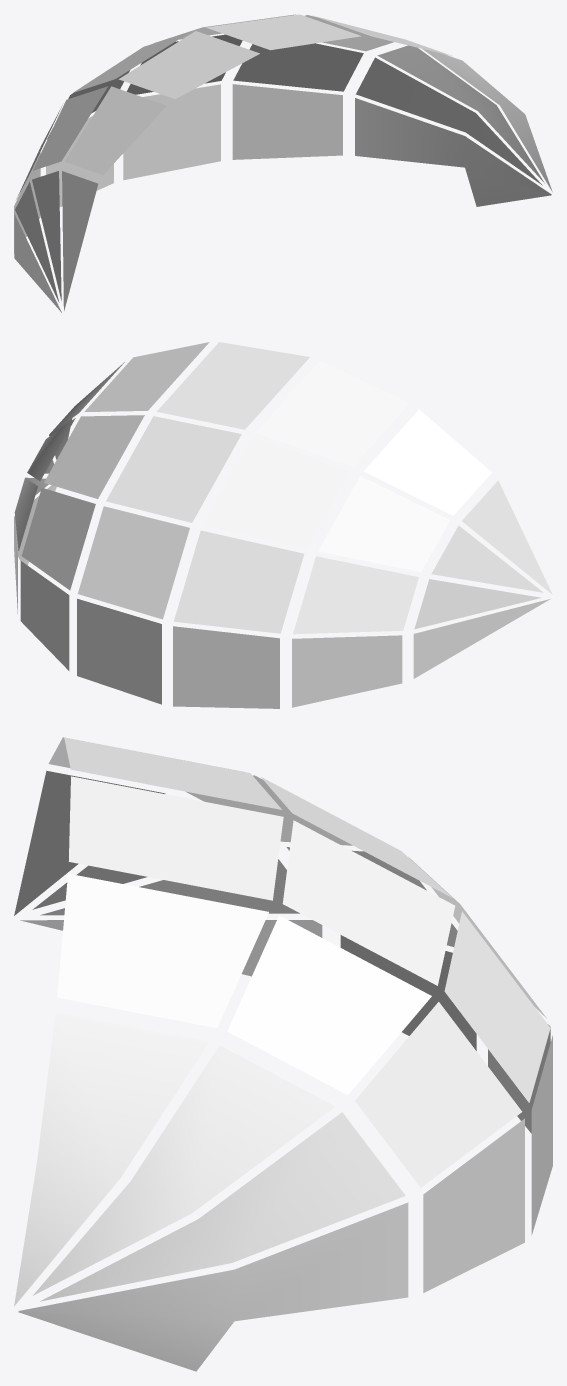
Rendered from GM_Sky.FBX.
3 renders of one model, top to bottom at view 1: azimuth 30°, elevation 25°; view 2: azimuth 150°, elevation 25°; view 3: azimuth 270°, elevation 25°, orthographic. The views are drawn at different scales.
Visible parts, largest first — view 1: Object01; view 2: Object01; view 3: Object01.
Boxes of the visible parts, x1,y1,x2,y2 form: Object01: [14, 14, 552, 312]; Object01: [14, 342, 552, 708]; Object01: [14, 737, 552, 1371].
Size of the model in its own units: 10506 by 6125 by 5017.
